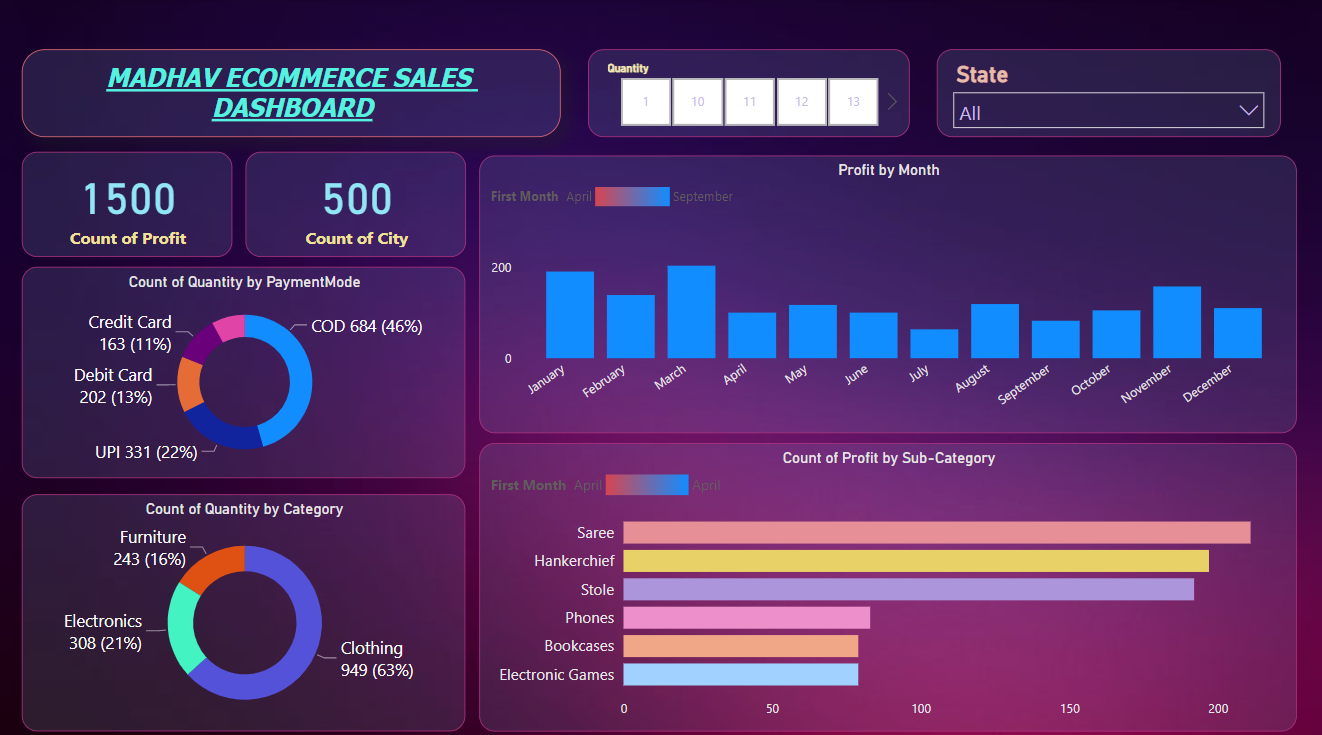

Layout of this report page (visuals, bound fields, positions):
{"tool":"powerbi","page":{"name":"Page 1","canvas":[1280,720],"ordinal":0},"visuals":[{"type":"textbox","box":[23.3,49.4,520.1,85.1],"z":0},{"type":"columnChart","title":"Profit by Month","fields":{"Category":["Orders.Order Date.Variation.Date Hierarchy.Month"],"Y":["CountNonNull(Details.Profit)"]},"box":[464.3,152,788.7,267.7],"z":1000},{"type":"barChart","fields":{"Category":["Details.Sub-Category"],"Y":["CountNonNull(Details.Profit)"]},"box":[463.8,429.5,789,278.6],"z":2000},{"type":"donutChart","fields":{"Category":["Details.PaymentMode"],"Y":["CountNonNull(Details.Quantity)"]},"box":[22.9,259.3,428.1,203.8],"z":3000},{"type":"donutChart","fields":{"Category":["Details.Category"],"Y":["CountNonNull(Details.Quantity)"]},"box":[23.3,478.9,428.1,229.2],"z":4000},{"type":"card","fields":{"Values":["CountNonNull(Details.Profit)"]},"box":[23.3,148.2,203.1,101.5],"z":5000},{"type":"card","fields":{"Values":["CountNonNull(Orders.City)"]},"box":[238.8,148.2,212.7,101.5],"z":6000},{"type":"slicer","fields":{"Values":["Details.Quantity"]},"box":[569.5,49.4,310.1,85.1],"z":7000},{"type":"slicer","fields":{"Values":["Orders.State"]},"box":[905.7,49.4,332.1,85.1],"z":8000}]}

Visuals, with their boxes in screenshot pixels (x1, y1, x2, y2), scaled from the page's 1280x720 canvas onto the 1322x735 screenshot:
textbox: x1=24, y1=50, x2=561, y2=137
"Profit by Month" columnChart: x1=480, y1=155, x2=1294, y2=428
barChart - Details.Sub-Category x CountNonNull(Details.Profit): x1=479, y1=438, x2=1294, y2=723
donutChart - Details.PaymentMode x CountNonNull(Details.Quantity): x1=24, y1=265, x2=466, y2=473
donutChart - Details.Category x CountNonNull(Details.Quantity): x1=24, y1=489, x2=466, y2=723
card - CountNonNull(Details.Profit): x1=24, y1=151, x2=234, y2=255
card - CountNonNull(Orders.City): x1=247, y1=151, x2=466, y2=255
slicer - Details.Quantity: x1=588, y1=50, x2=908, y2=137
slicer - Orders.State: x1=935, y1=50, x2=1278, y2=137
